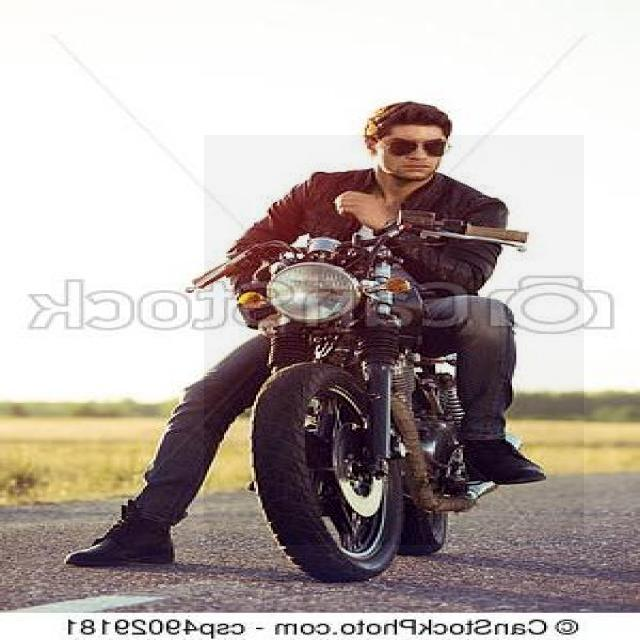Bike: (205, 135, 584, 546)
